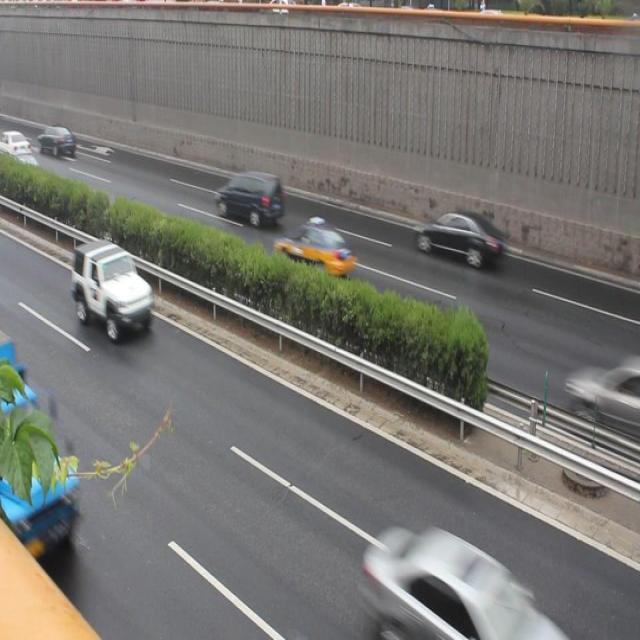bus: (1, 341, 78, 561)
car: (369, 524, 554, 640), (70, 239, 154, 338), (567, 361, 640, 434), (416, 209, 502, 270), (275, 217, 355, 278)
truck: (215, 170, 285, 228)
